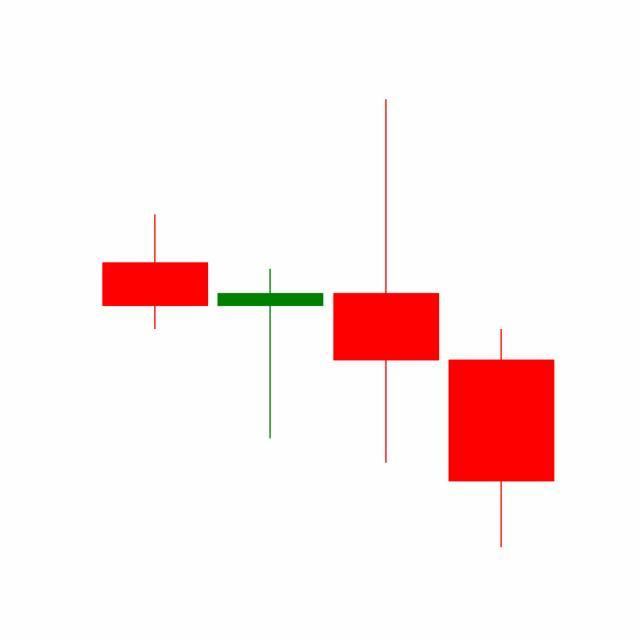Spinning Top: (329, 95, 445, 467)
